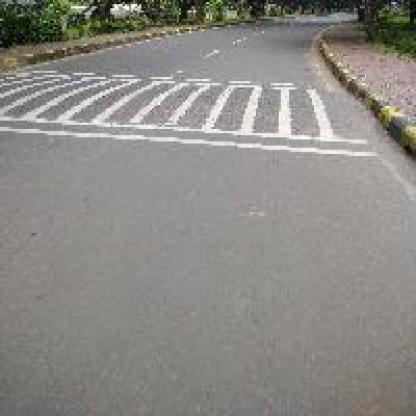Speed Bump: (0, 60, 381, 160)
